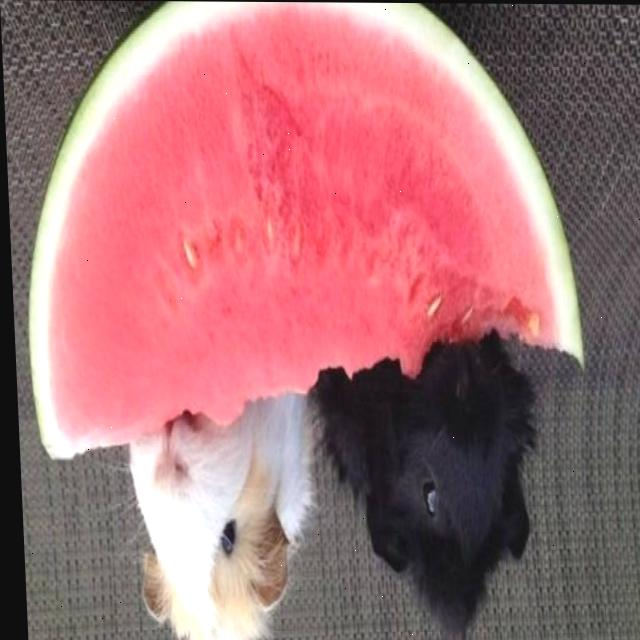guinea pig: (313, 342, 542, 635), (122, 387, 320, 640)
